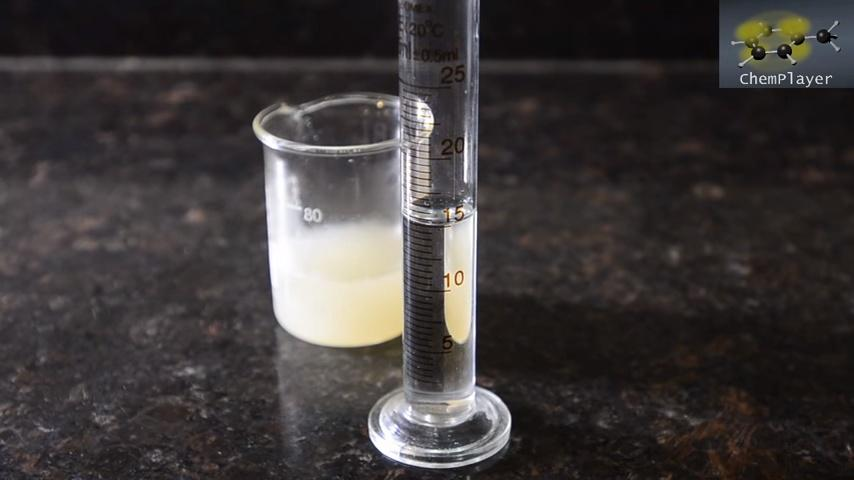Beaker: (226, 62, 436, 362)
